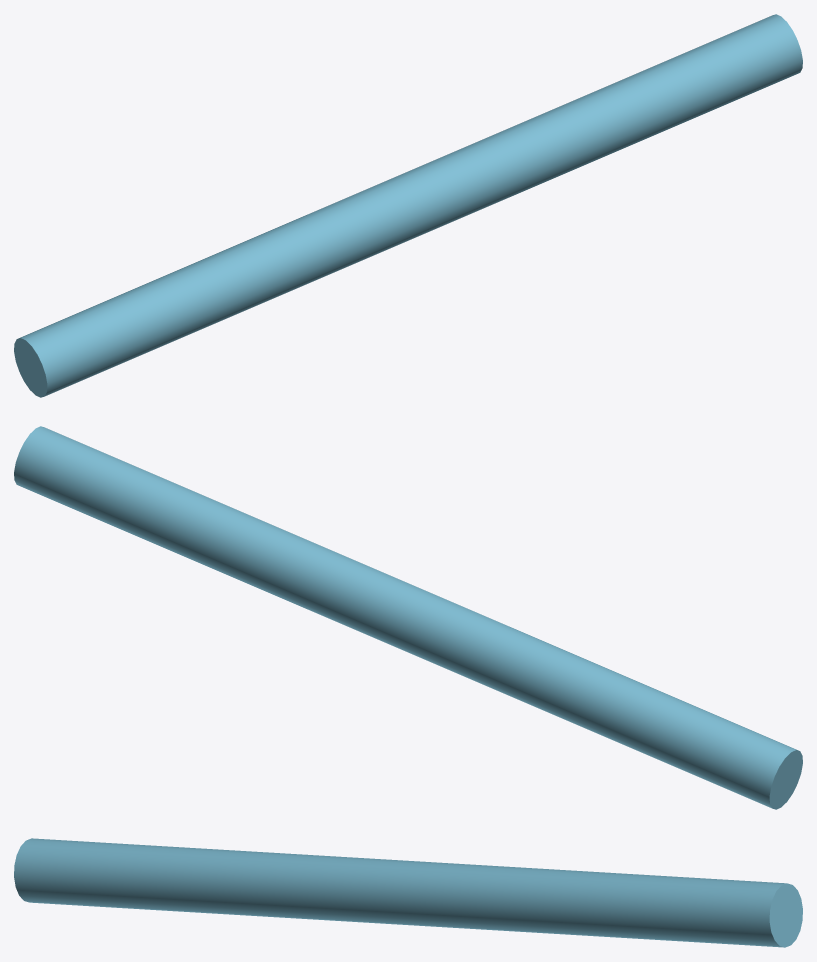
File: section.obj
3 views of the same model, one above another, from view 1: azimuth 30°, elevation 25°; view 2: azimuth 150°, elevation 25°; view 3: azimuth 330°, elevation 25° (orthographic).
Parts seen in each view (by area): view 1: __.8; view 2: __.8; view 3: __.8.
Part boxes in pixels (<box>): __.8: <box>14,14,802,397</box>; __.8: <box>14,426,802,809</box>; __.8: <box>14,838,802,947</box>.
Size of the model in its own units: 1075 by 264 by 77.09.
